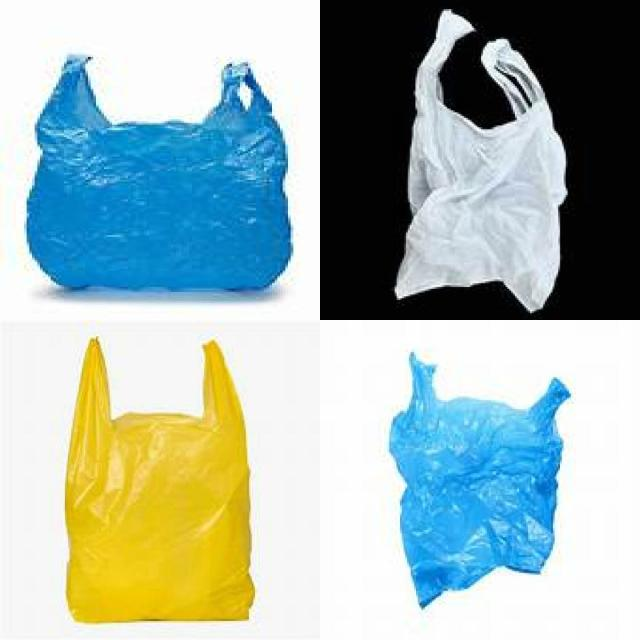Single-layer Plastic: (26, 55, 291, 290), (65, 339, 254, 622), (395, 10, 566, 312), (390, 352, 570, 608)
